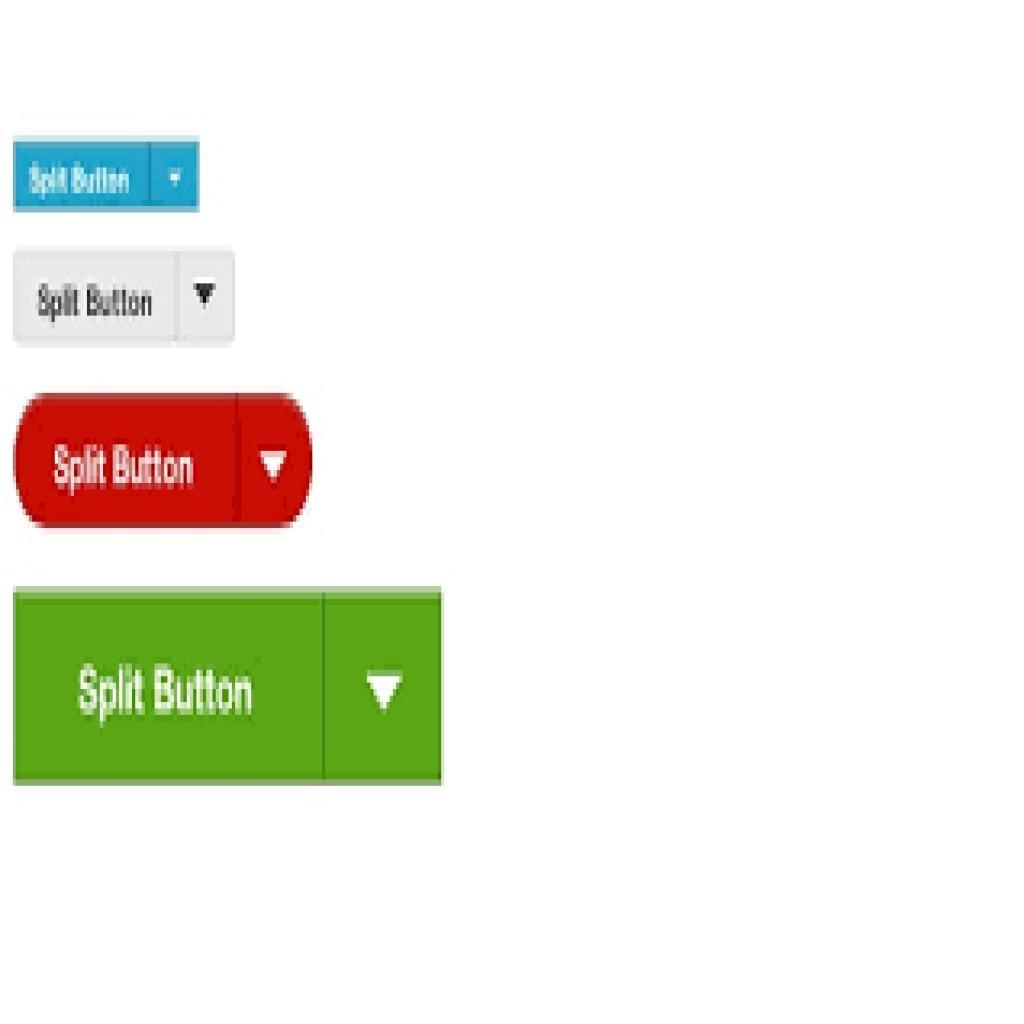dropdown: (13, 588, 441, 787), (15, 396, 315, 529), (16, 247, 234, 346), (15, 144, 199, 212)
